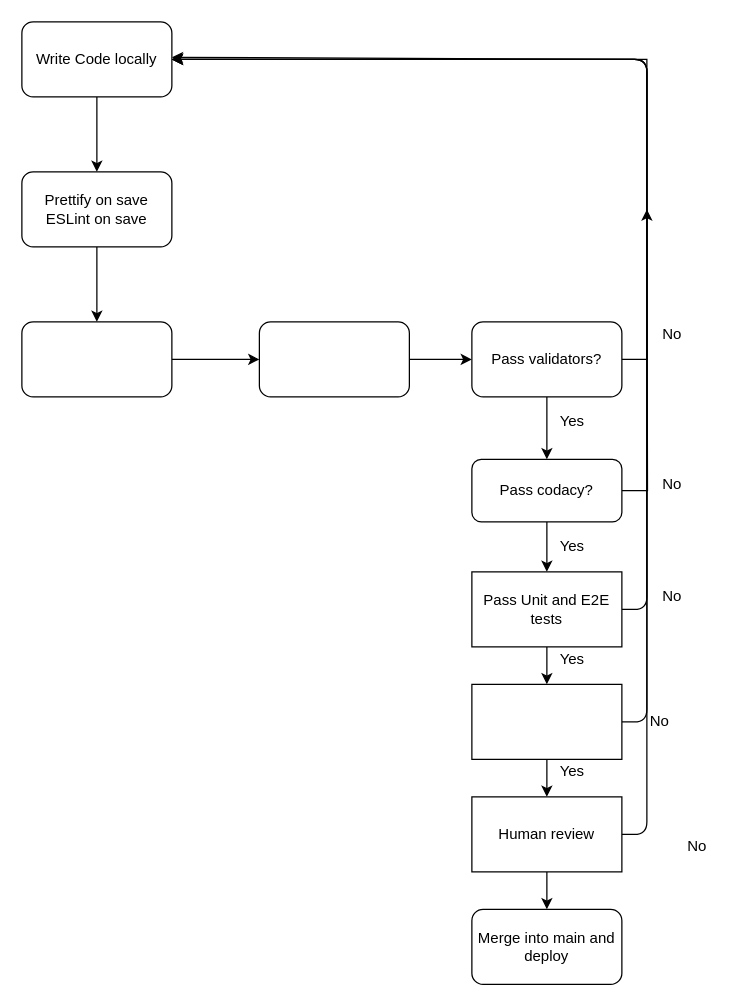
This 738x1006 diagram has some shape labels left out. The shapes that lost their labels are listed below. From the top down, each one's box as (x1, y1, x2, y2) in pixels, then its label:
(21, 321, 172, 397): Commit, push to branch
(258, 321, 409, 397): Pull request to main
(471, 683, 622, 759): Produce docs
